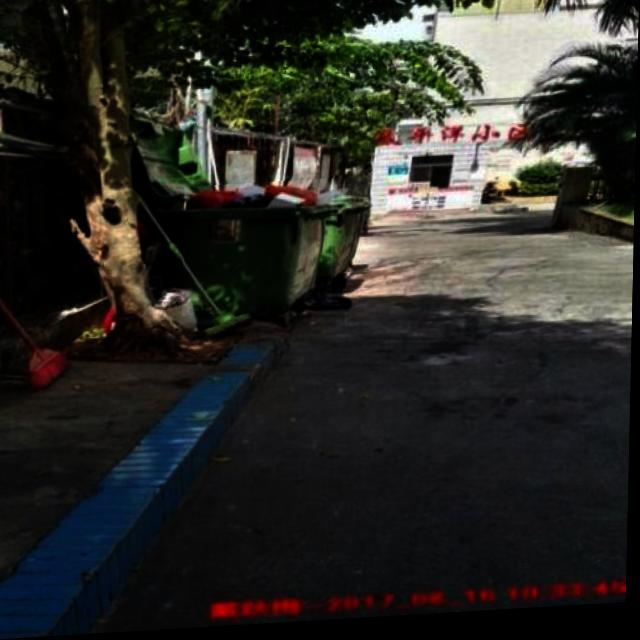overflow: (184, 182, 336, 318)
